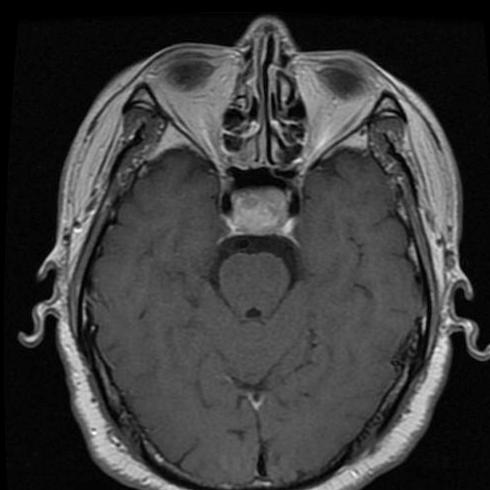Tumour-Pituitary: (217, 183, 314, 243)
